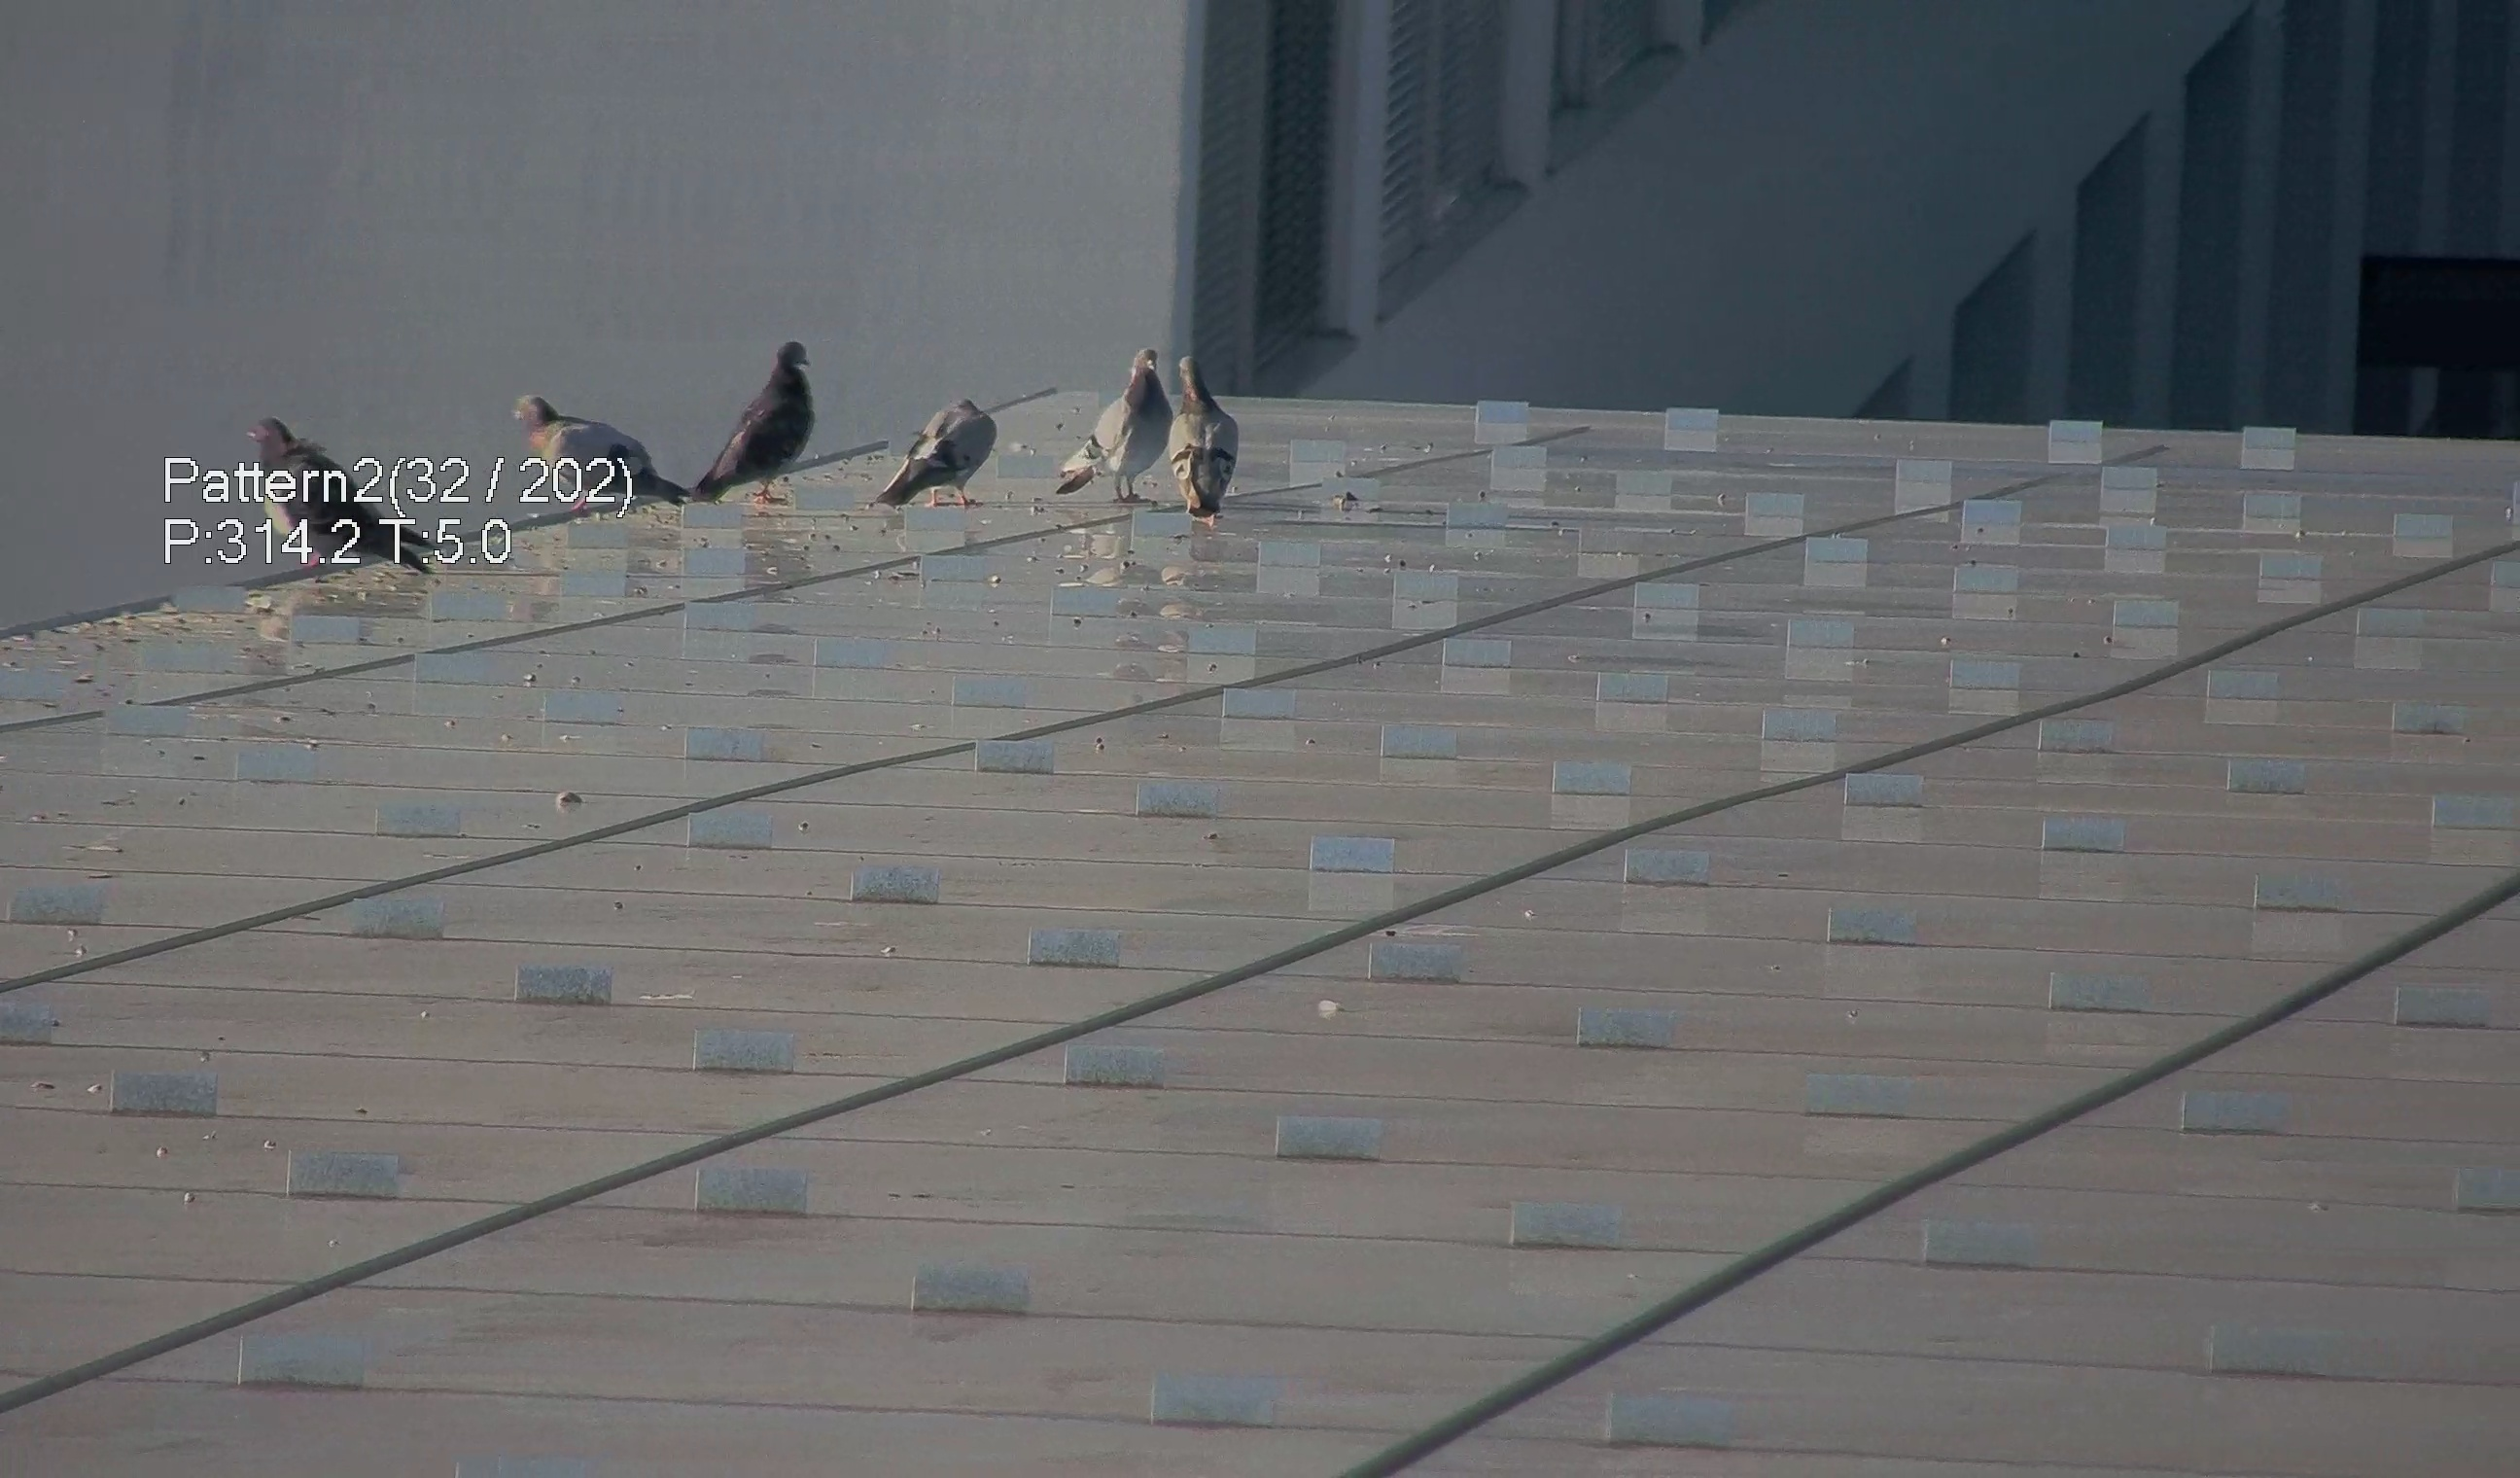Pigeon: (236, 417, 429, 595), (681, 326, 814, 503), (494, 380, 700, 494), (1052, 334, 1173, 494), (863, 375, 1011, 505), (1154, 352, 1238, 519)
